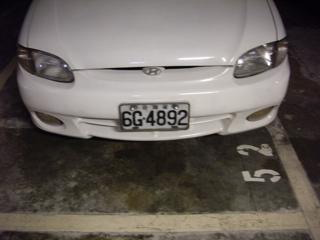plate: (117, 100, 191, 132)
